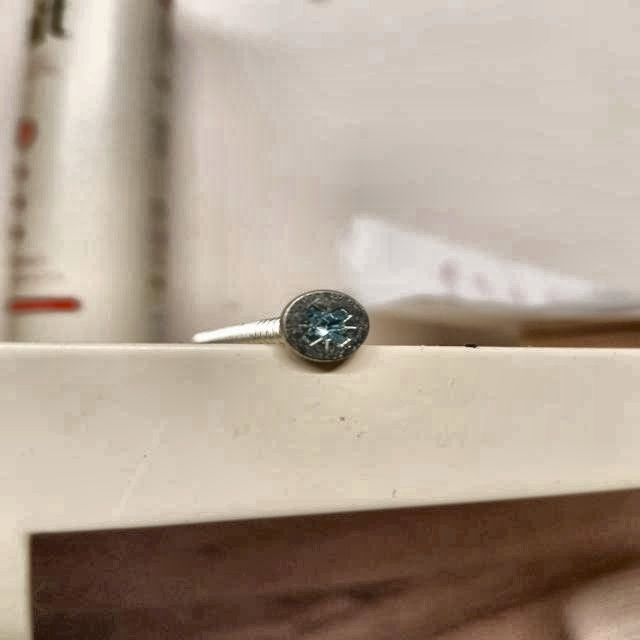pozidriv: (280, 288, 370, 363)
